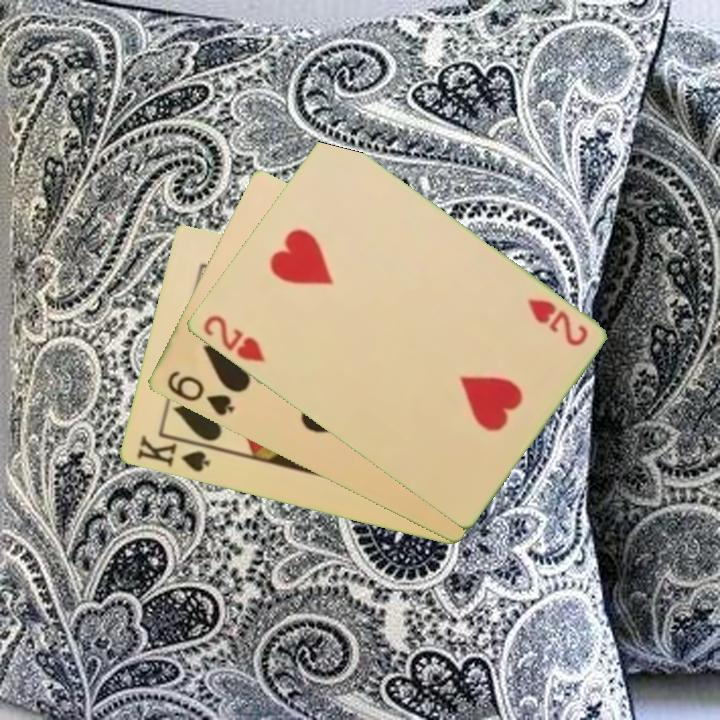2h: (198, 311, 268, 366), (523, 295, 590, 350)
6s: (163, 367, 237, 420)
Ks: (132, 432, 216, 476)
